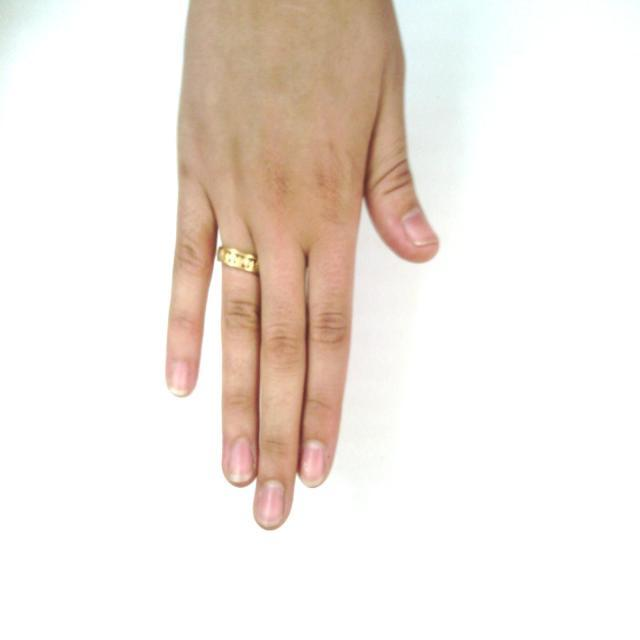Fingernail: (402, 209, 440, 246), (258, 481, 284, 528), (229, 438, 255, 483), (299, 440, 324, 486), (169, 362, 187, 395)
